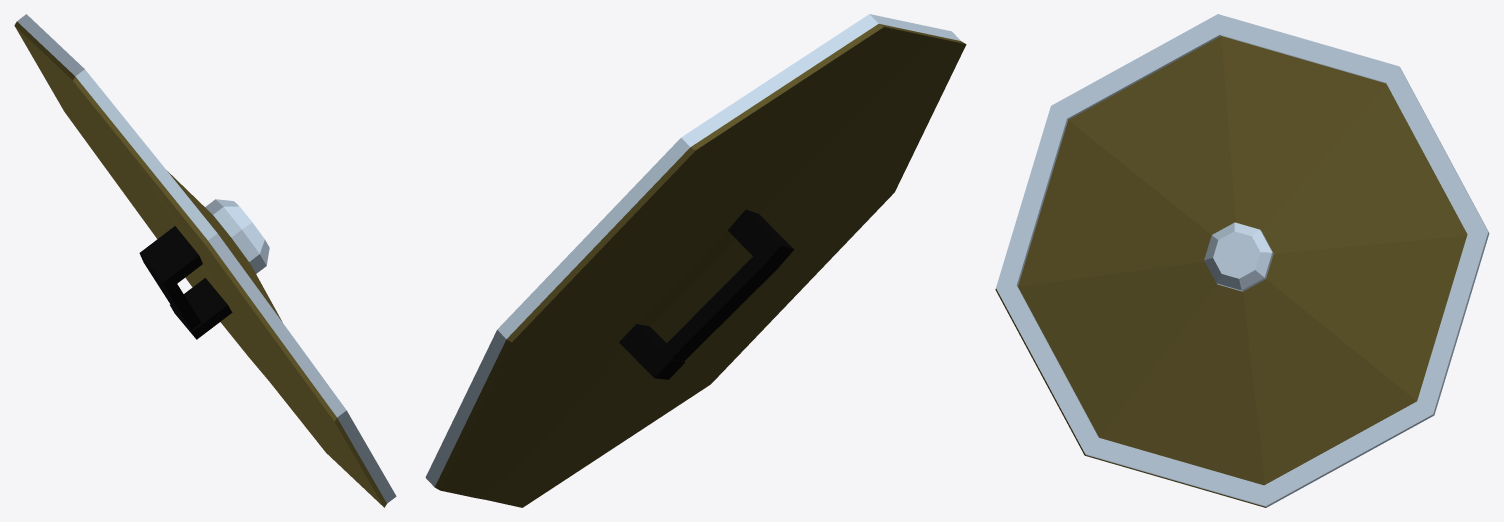
Rendered from round_shield_obj.fbx.
3 views of the same model, side by side, from view 1: azimuth 30°, elevation 25°; view 2: azimuth 150°, elevation 25°; view 3: azimuth 270°, elevation 25° (orthographic). The views are drawn at different scales.
Parts seen in each view (by area): view 1: Round shield; view 2: Round shield; view 3: Round shield.
Boxes of the visible parts, <box> form: Round shield: <box>14,14,396,507</box>; Round shield: <box>425,14,966,507</box>; Round shield: <box>995,14,1489,507</box>.
Size of the model in its own units: 259 by 396 by 459.
